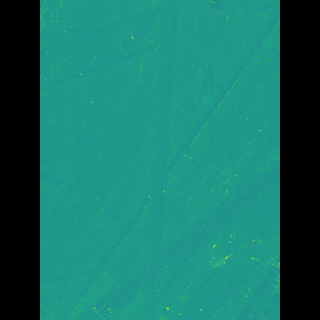Loch: (69, 0, 219, 285), (138, 0, 175, 320), (190, 239, 215, 280)
